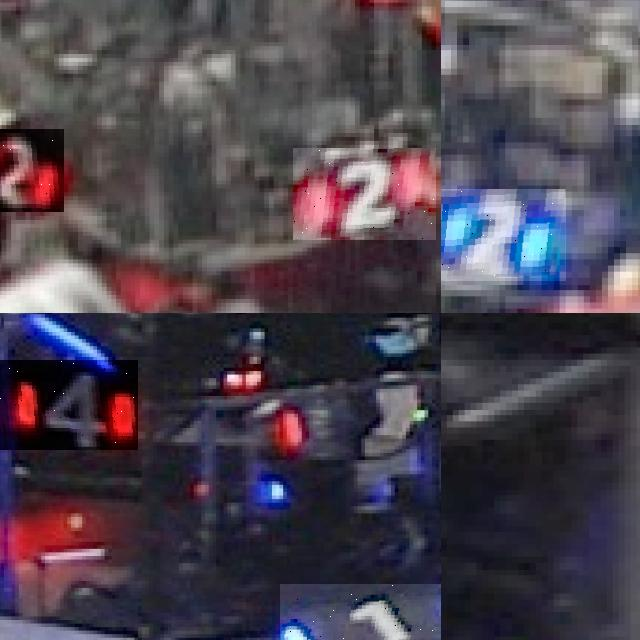B1: (279, 584, 441, 640)
B2: (441, 188, 566, 281)
R2: (293, 148, 436, 240), (0, 129, 63, 212)
R4: (0, 360, 138, 449)
